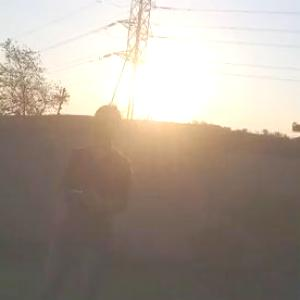follow: (52, 100, 136, 299)
